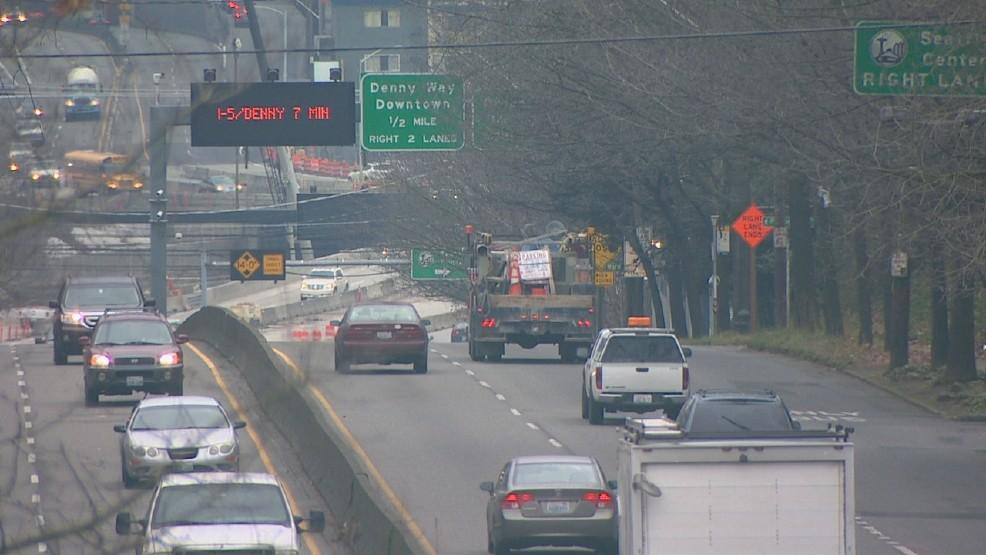bus: (615, 387, 860, 555), (461, 222, 597, 363), (64, 148, 144, 197)
car: (115, 470, 327, 555), (480, 456, 620, 555), (113, 393, 248, 487), (580, 315, 694, 426), (78, 304, 191, 404), (49, 273, 158, 367), (329, 301, 433, 373), (300, 266, 349, 302), (25, 157, 67, 188), (5, 139, 42, 172), (14, 94, 55, 122), (197, 174, 242, 198), (11, 116, 46, 144)
